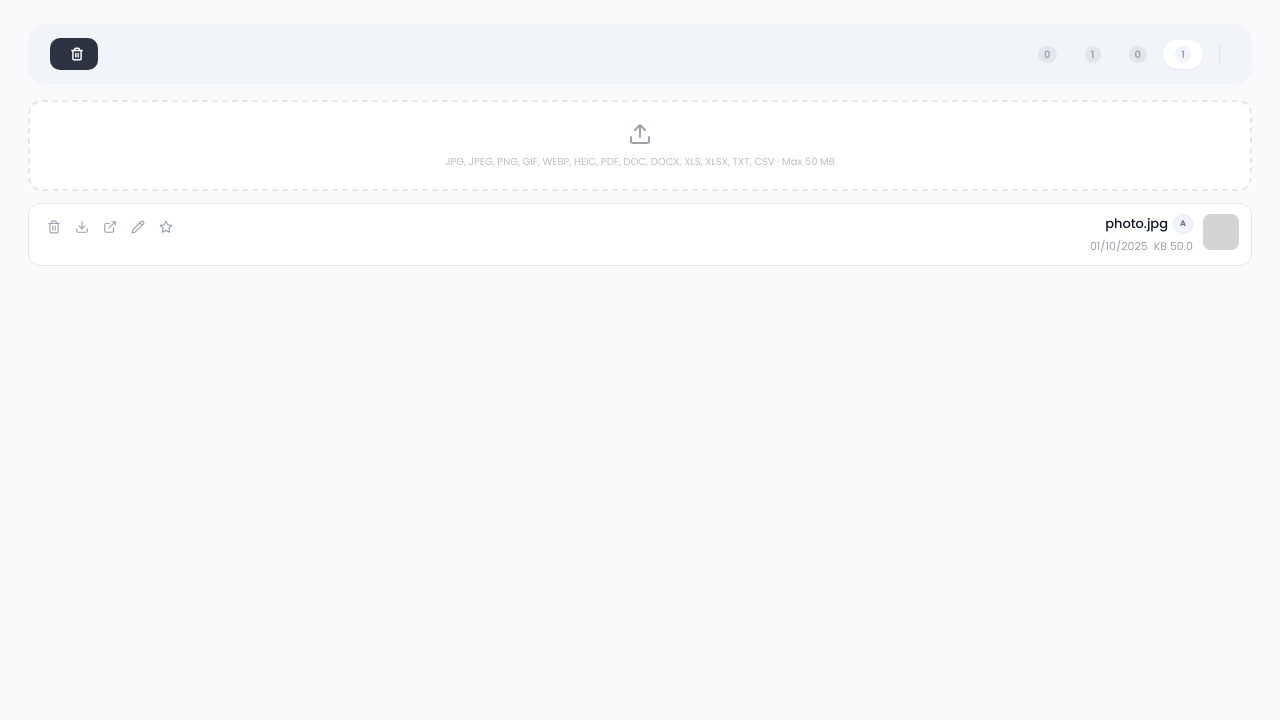
it: FileManager › FE-COMP-FILEMANAGER-010: image file click opens lightbox
Click the file name to open lightbox
Step 1. Click the button "photo.jpg" → [1137, 224], box [1105,214,1168,234]
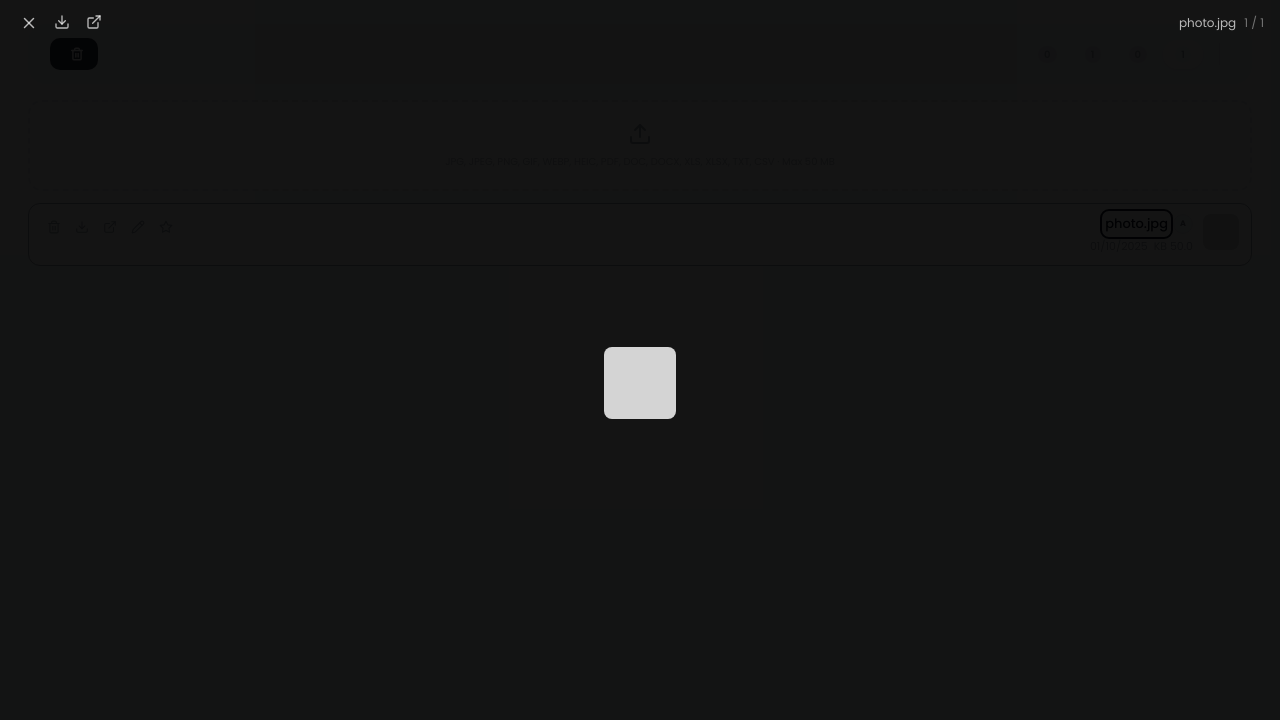
Expected: the text "1 / 1" is shown, [1244,14,1264,31]
